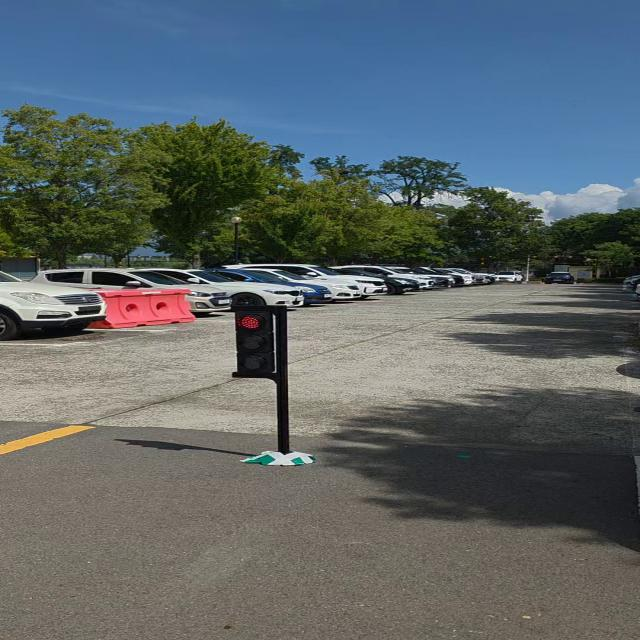red: (233, 312, 279, 376)
